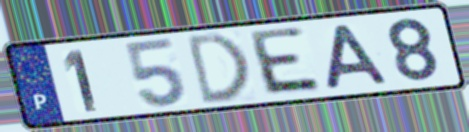1: (61, 48, 100, 113)
5: (121, 35, 190, 110)
8: (386, 16, 443, 84)
A: (324, 22, 393, 92)
D: (183, 30, 253, 108)
E: (248, 25, 327, 97)
